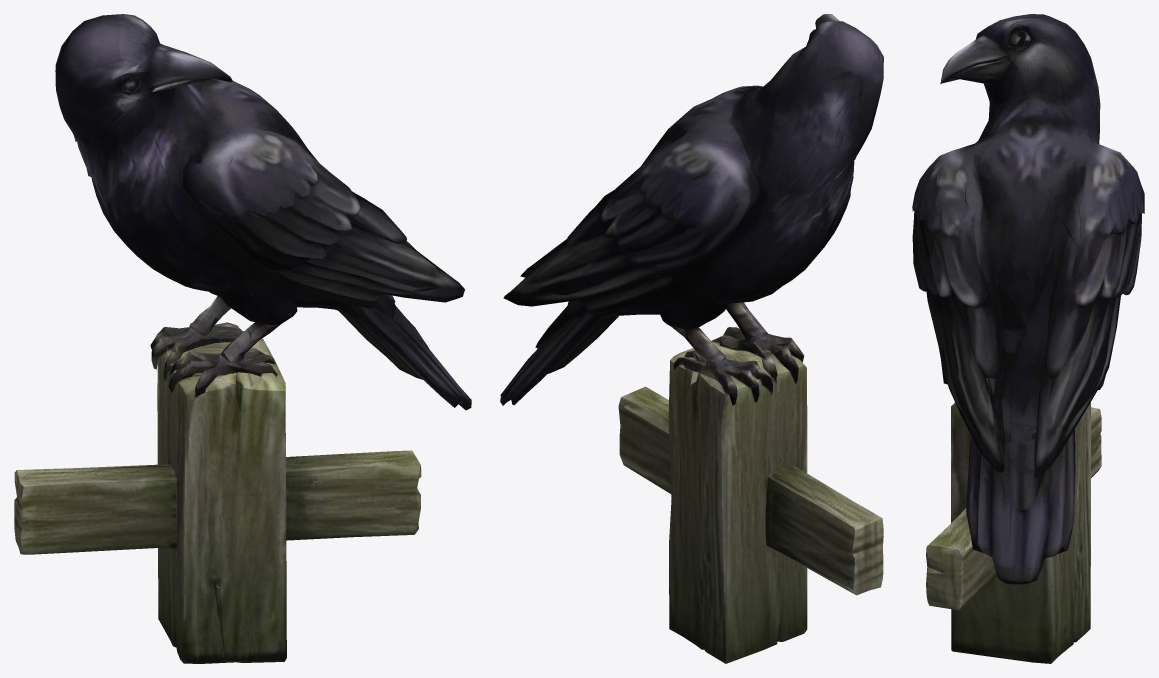
The model's file is raven.glb.
The picture shows the model from 3 angles, left to right: view 1: azimuth 30°, elevation 25°; view 2: azimuth 150°, elevation 25°; view 3: azimuth 270°, elevation 25°; orthographic projection. The views are drawn at different scales.
Parts seen in each view (by area): view 1: Mesh_0; view 2: Mesh_0; view 3: Mesh_0.
Boxes of the visible parts, x1,y1,x2,y2 form: Mesh_0: [14, 14, 471, 663]; Mesh_0: [500, 14, 883, 663]; Mesh_0: [912, 14, 1144, 663].
Size of the model in its own units: 1.29 by 1.9 by 0.6871.
Materials: 1 (1 with a texture image).
